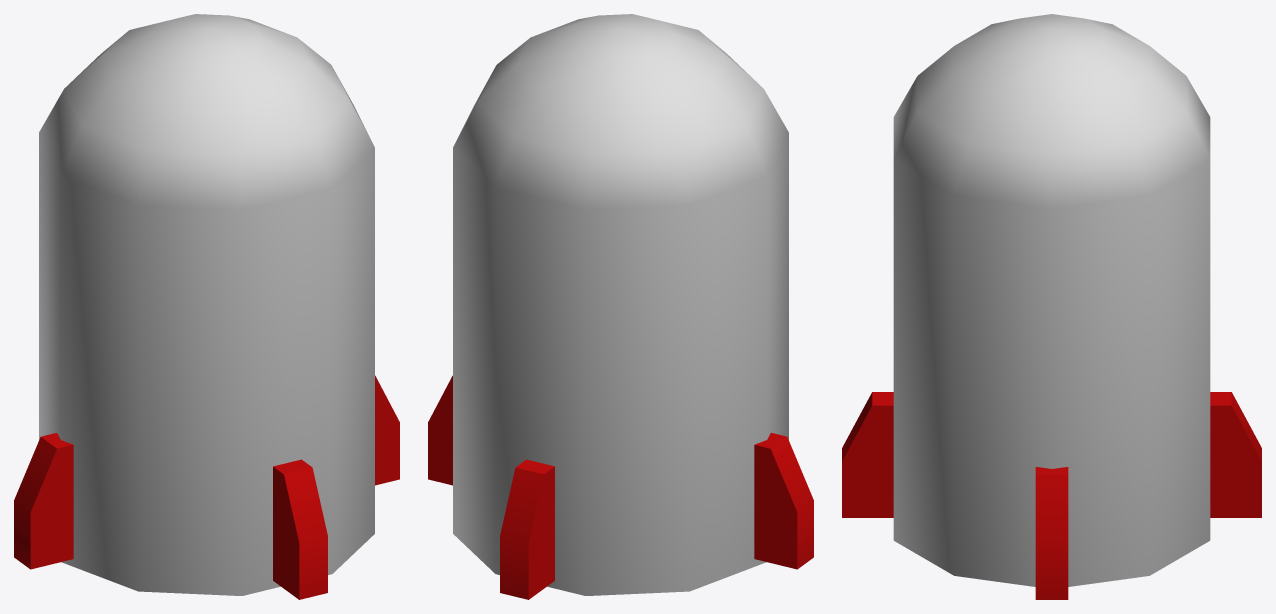
File: Missile.fbx
3 renders of one model, left to right at view 1: azimuth 30°, elevation 25°; view 2: azimuth 150°, elevation 25°; view 3: azimuth 270°, elevation 25°, orthographic.
Parts seen in each view (by area): view 1: polySurface1; view 2: polySurface1; view 3: polySurface1.
Boxes of the visible parts, box(x1,y1,x2,y2) form: polySurface1: box(14, 14, 399, 599); polySurface1: box(428, 14, 813, 599); polySurface1: box(842, 14, 1261, 599).
Bounding box in the file's own units: 4.8 × 6.18 × 4.8.
